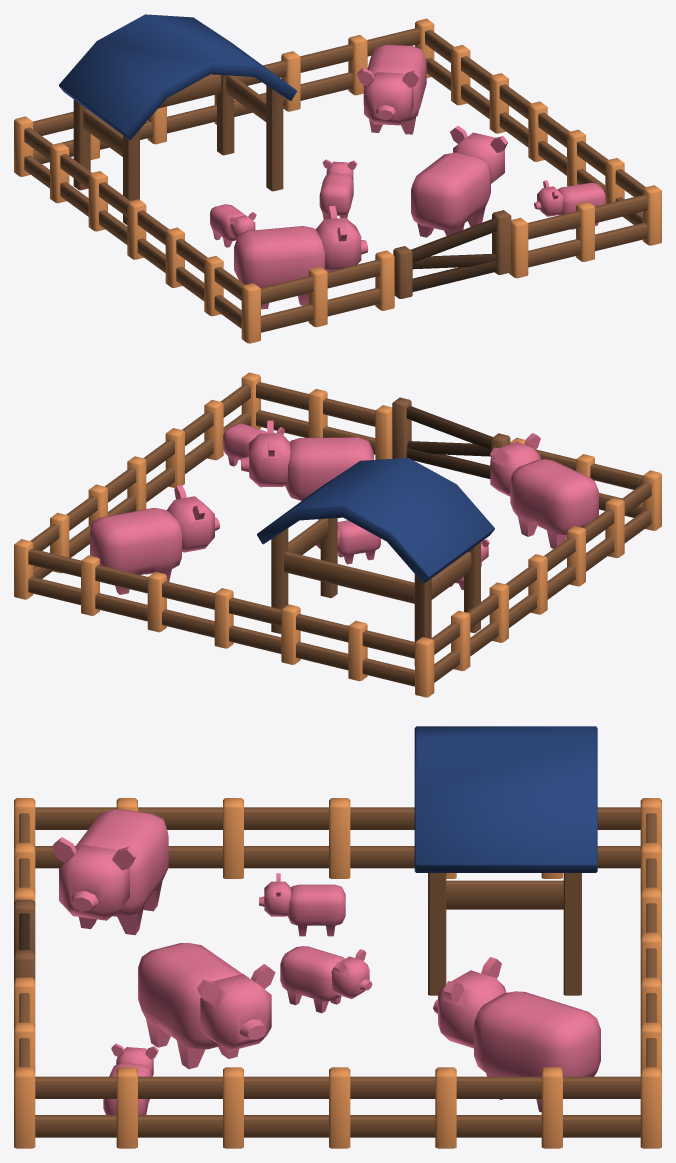
File: Farm-2.fbx
3 renders of one model, top to bottom at view 1: azimuth 30°, elevation 25°; view 2: azimuth 150°, elevation 25°; view 3: azimuth 270°, elevation 25°, orthographic. The views are drawn at different scales.
Parts seen in each view (by area): view 1: Cylinder.261, Cube.1234, Cube.1238, Cube.1566, Cube.1233, Cube.1564, Cube.1232, Cube.1237, Cube.1231, Cube.1236, Cube.1240, Cube.1235 (+19 smaller); view 2: Cylinder.261, Cube.1233, Cube.1231, Cube.1234, Cube.1564, Cube.1238, Cube.1467, Cube.1232, Cube.1237, Cube.1566, Cube.1240, Cube.1244 (+16 smaller); view 3: Cylinder.261, Cube.1238, Cube.1234, Cube.1467, Cube.1237, Cube.1566, Cube.1231, Cube.1564, Cube.1563, Cube.1565, Cube.1245, Cube.1232 (+15 smaller).
Part boxes in pixels (left/top/right/bottom): Cylinder.261: left=59, top=14, right=296, bottom=139; Cube.1234: left=24, top=127, right=244, bottom=328; Cube.1238: left=425, top=29, right=645, bottom=224; Cube.1566: left=411, top=152, right=490, bottom=237; Cube.1233: left=33, top=28, right=419, bottom=163; Cube.1564: left=234, top=226, right=325, bottom=309; Cube.1232: left=50, top=142, right=223, bottom=316; Cube.1237: left=451, top=45, right=624, bottom=203; Cube.1231: left=14, top=18, right=434, bottom=176; Cube.1236: left=260, top=260, right=380, bottom=332; Cube.1240: left=528, top=194, right=647, bottom=267; Cube.1235: left=241, top=250, right=394, bottom=343; Cylinder.261: left=257, top=457, right=494, bottom=583; Cube.1233: left=28, top=548, right=414, bottom=686; Cube.1231: left=14, top=539, right=434, bottom=697; Cube.1234: left=431, top=481, right=651, bottom=682; Cube.1564: left=510, top=459, right=598, bottom=548; Cube.1238: left=30, top=383, right=250, bottom=578; Cube.1467: left=90, top=508, right=181, bottom=594; Cube.1232: left=451, top=497, right=624, bottom=670; Cube.1237: left=50, top=400, right=223, bottom=573; Cube.1566: left=285, top=437, right=373, bottom=500; Cube.1240: left=256, top=382, right=375, bottom=454; Cube.1244: left=284, top=551, right=414, bottom=603; Cylinder.261: left=414, top=726, right=597, bottom=872; Cube.1238: left=35, top=1076, right=640, bottom=1137; Cube.1234: left=35, top=807, right=640, bottom=868; Cube.1467: left=474, top=991, right=600, bottom=1112; Cube.1237: left=116, top=1067, right=562, bottom=1148; Cube.1566: left=138, top=942, right=242, bottom=1069; Cube.1231: left=640, top=798, right=661, bottom=1148; Cube.1564: left=75, top=809, right=168, bottom=935; Cube.1563: left=52, top=837, right=137, bottom=920; Cube.1565: left=196, top=964, right=275, bottom=1051; Cube.1245: left=428, top=873, right=581, bottom=995; Cube.1232: left=116, top=798, right=562, bottom=878.
Size of the model in its own units: 180 by 61.82 by 177.
